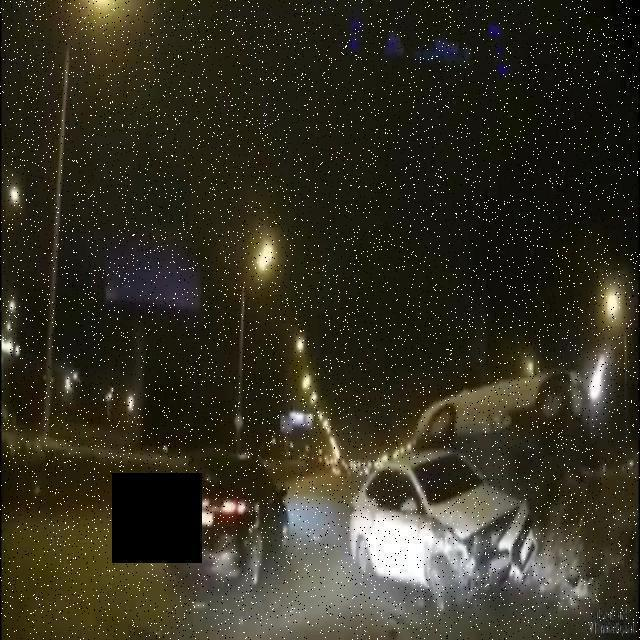accident: (346, 366, 598, 614)
